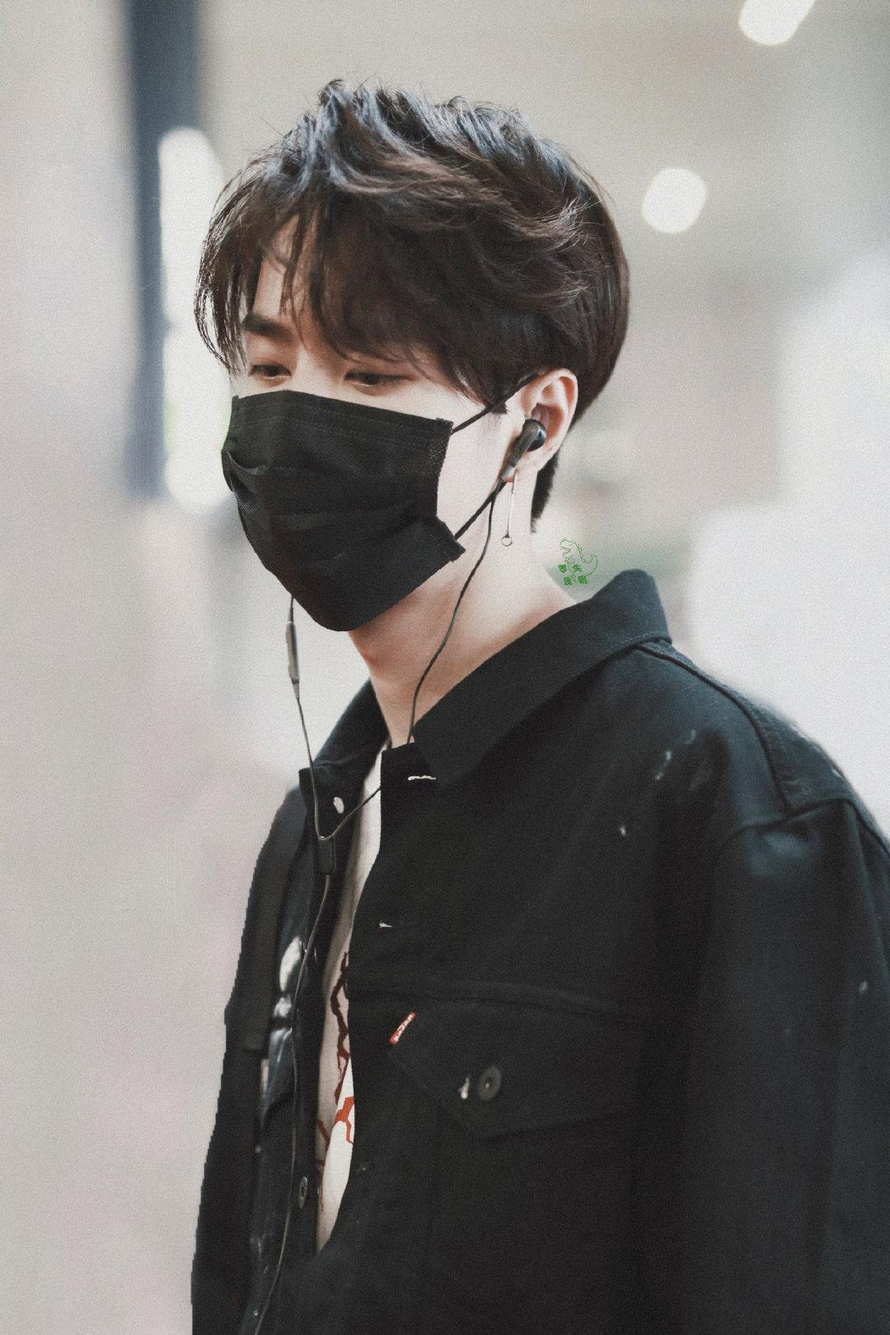OK: (229, 276, 488, 628)
